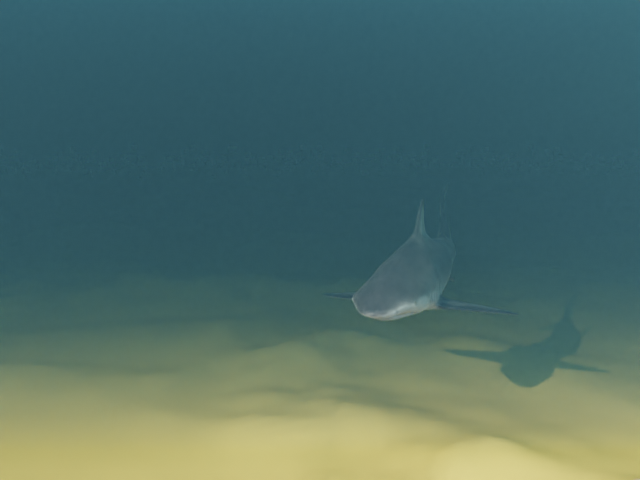Carribean Shark.001: (320, 181, 519, 320)
